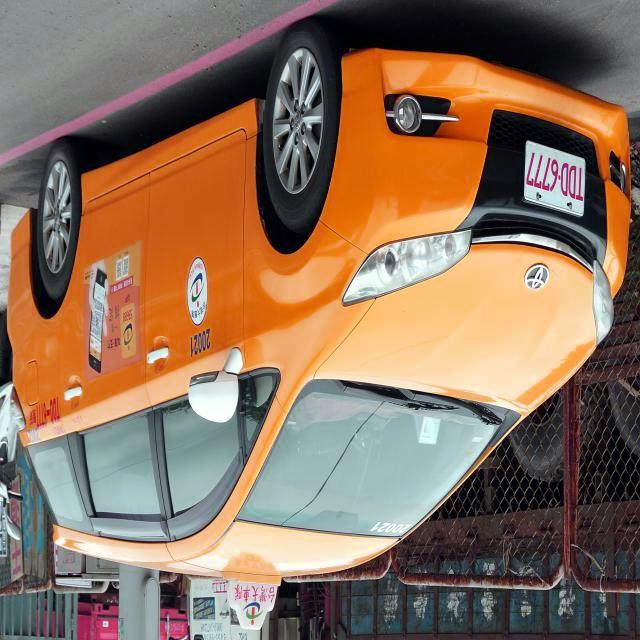taxi: (8, 19, 638, 639)
